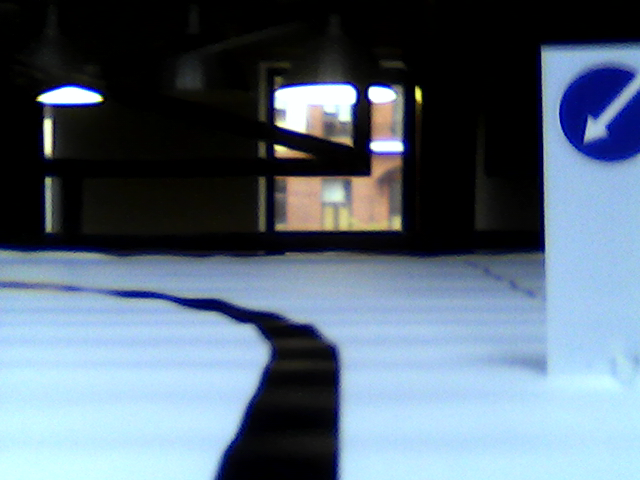prep: (559, 61, 640, 167)
